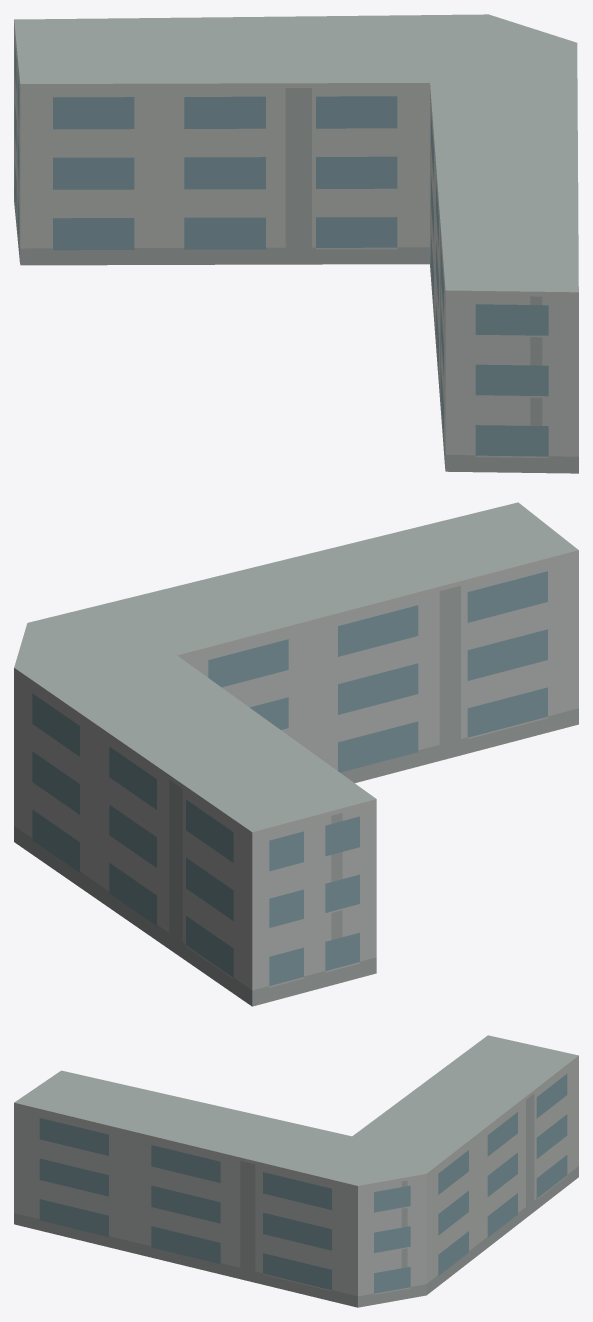
The model's file is survey-upis-32789784.glb.
3 renders of one model, top to bottom at view 1: azimuth 30°, elevation 25°; view 2: azimuth 150°, elevation 25°; view 3: azimuth 270°, elevation 25°, orthographic. The views are drawn at different scales.
Visible parts, largest first — view 1: survey-upis-32789784.tmp; view 2: survey-upis-32789784.tmp; view 3: survey-upis-32789784.tmp.
Boxes of the visible parts, <box> form: survey-upis-32789784.tmp: <box>14,14,578,473</box>; survey-upis-32789784.tmp: <box>14,502,578,1006</box>; survey-upis-32789784.tmp: <box>14,1035,578,1307</box>.
Bounding box in the file's own units: 24.32 × 9.15 × 38.5.
